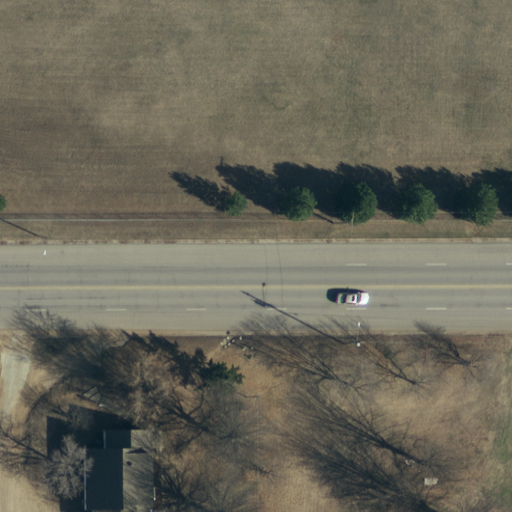DT: (342, 321, 371, 354), (24, 228, 52, 250), (330, 211, 358, 233)
